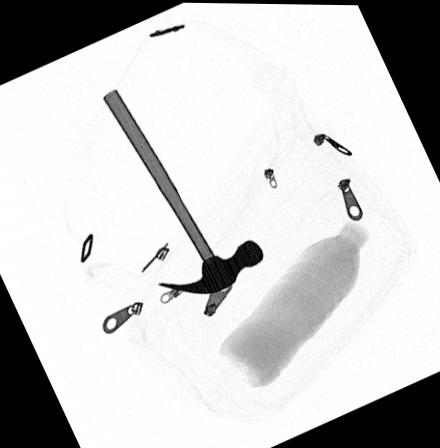Hammer: (102, 87, 265, 293)
